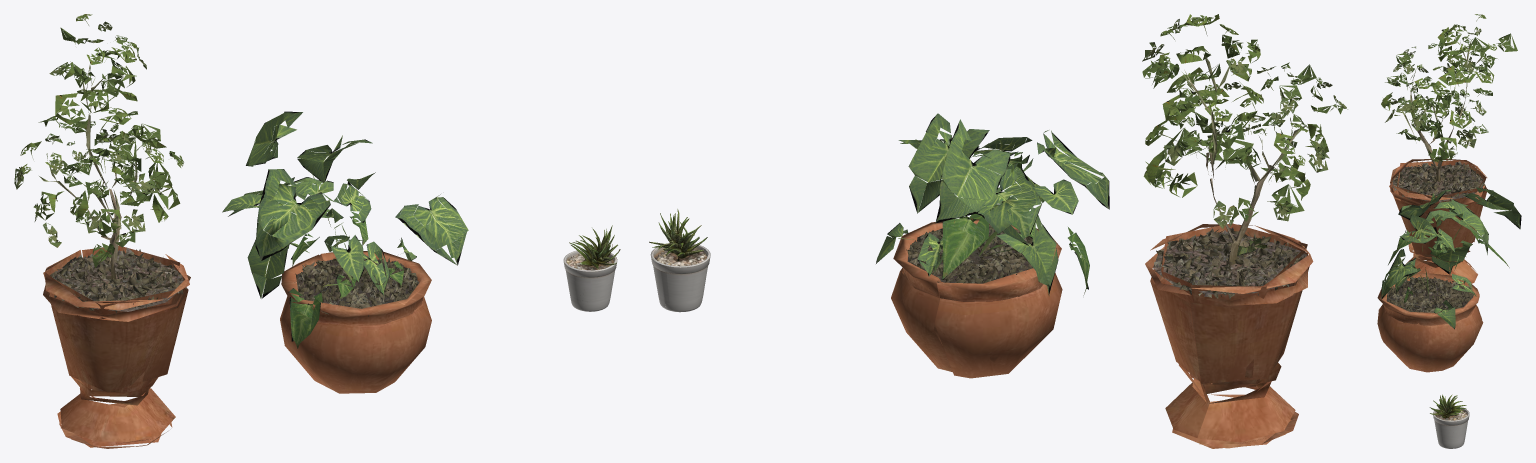
Rendered from plants.glb.
3 renders of one model, left to right at view 1: azimuth 30°, elevation 25°; view 2: azimuth 150°, elevation 25°; view 3: azimuth 270°, elevation 25°, orthographic. The views are drawn at different scales.
Visible parts, largest first — view 1: potted_plant_01_pot, potted_plant_02_leaves, potted_plant_01_leaves, potted_plant_02_pot, potted_plant_01_pebbles, potted_plant_02_dirt, potted_plant_04_pot, potted_plant_01_stem, potted_plant_04_plant; view 2: potted_plant_01_pot, potted_plant_02_leaves, potted_plant_01_leaves, potted_plant_02_pot, potted_plant_01_pebbles, potted_plant_02_dirt, potted_plant_04_pot, potted_plant_01_stem, potted_plant_04_plant; view 3: potted_plant_01_leaves, potted_plant_02_leaves, potted_plant_02_pot, potted_plant_01_pot, potted_plant_01_pebbles, potted_plant_02_dirt, potted_plant_04_pot, potted_plant_01_stem, potted_plant_04_plant.
Boxes of the visible parts, x1,y1,x2,y2 form: potted_plant_01_pot: (43,245,190,448); potted_plant_02_leaves: (222,111,468,348); potted_plant_01_leaves: (14,14,183,268); potted_plant_02_pot: (280,251,431,393); potted_plant_01_pebbles: (50,247,186,312); potted_plant_02_dirt: (294,256,419,316); potted_plant_04_pot: (563,249,617,311); potted_plant_01_stem: (39,62,137,279); potted_plant_04_plant: (569,225,620,268); potted_plant_01_pot: (1145,223,1313,448); potted_plant_02_leaves: (876,113,1109,295); potted_plant_01_leaves: (1142,14,1347,255); potted_plant_02_pot: (891,218,1062,378); potted_plant_01_pebbles: (1153,226,1306,299); potted_plant_02_dirt: (906,223,1040,283); potted_plant_04_pot: (650,243,710,312); potted_plant_01_stem: (1182,54,1306,264); potted_plant_04_plant: (649,209,707,261); potted_plant_01_leaves: (1381,14,1517,162); potted_plant_02_leaves: (1381,187,1521,329); potted_plant_02_pot: (1377,272,1483,372); potted_plant_01_pot: (1389,158,1487,283); potted_plant_01_pebbles: (1392,160,1485,202); potted_plant_02_dirt: (1386,277,1473,312); potted_plant_04_pot: (1433,407,1469,448); potted_plant_01_stem: (1402,41,1484,181); potted_plant_04_plant: (1429,394,1466,418).
Bounding box in the file's own units: 2.16 × 1.35 × 0.6579.
5 materials, 5 textured.
